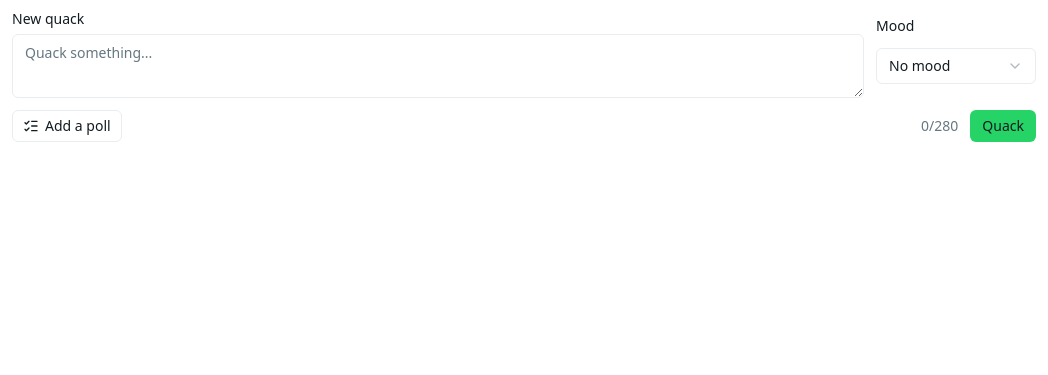
Test case: QuackForm poll › adds two empty answers and puts the cursor in the first
Type "Where do we go for lunch?" into the text box labelled "New quack" at (438, 66), box [12, 34, 864, 98]
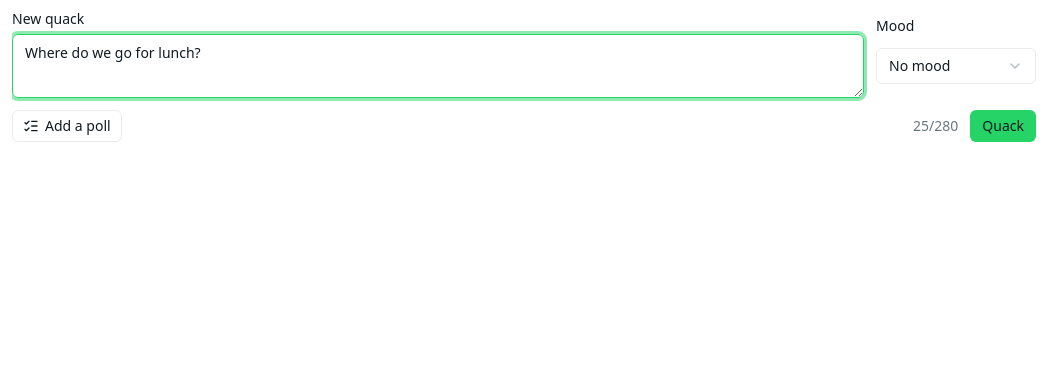
Click the button "Add a poll" at (67, 126), box [12, 110, 122, 142]
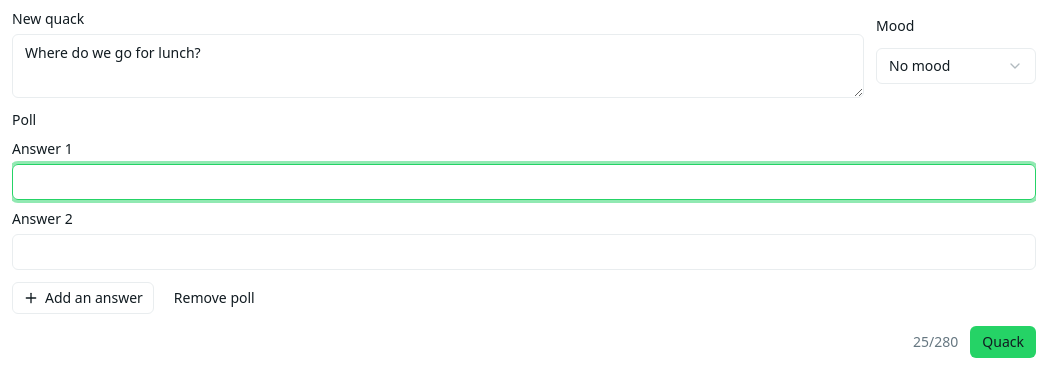
Expected: the field labelled "Answer 1" is empty, [12, 164, 1036, 200]
Expected: the button "Add a poll" is gone
